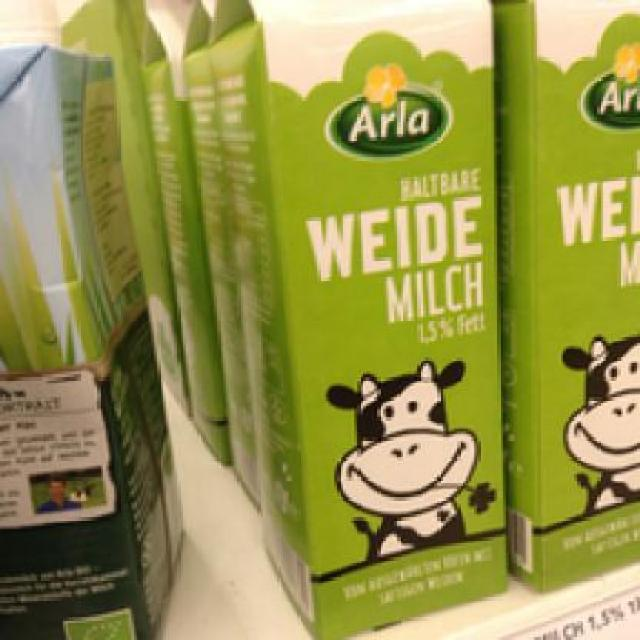Milk: (210, 0, 518, 635)
